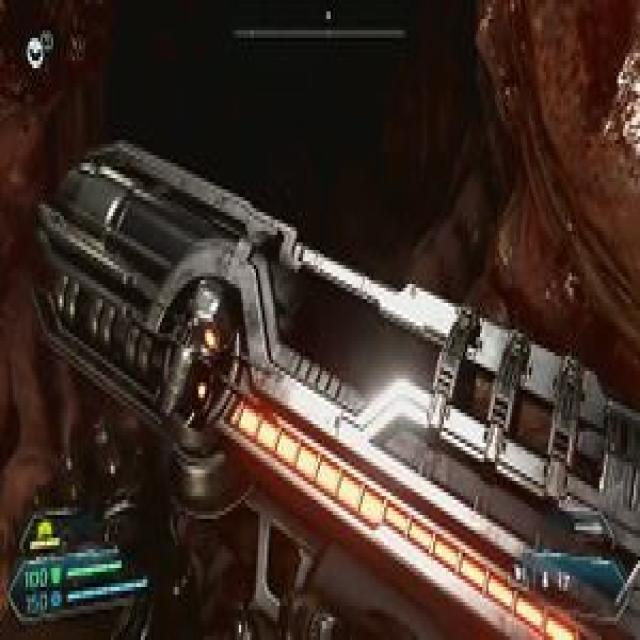bazooka: (20, 82, 640, 640)
